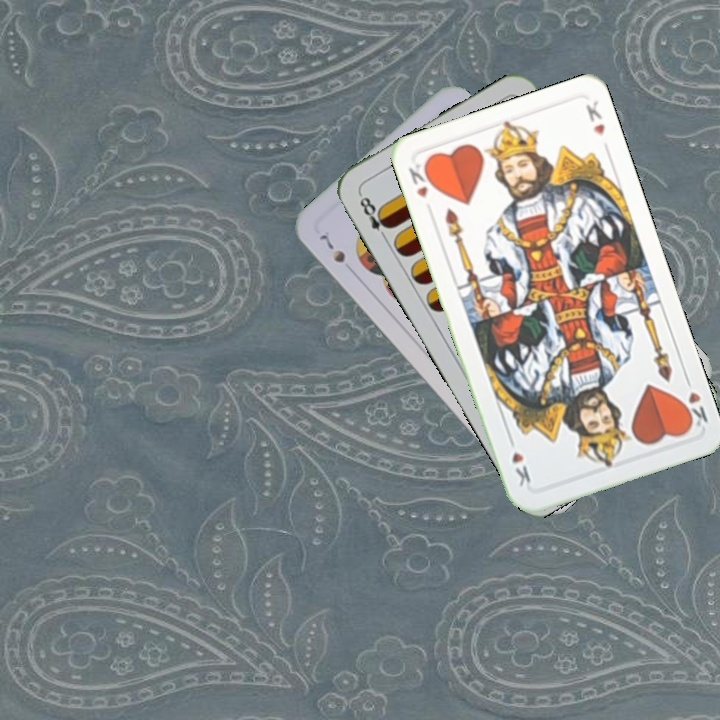E8: (355, 189, 395, 243)
HK: (676, 372, 710, 433), (404, 156, 437, 201)
S7: (315, 230, 348, 266)
